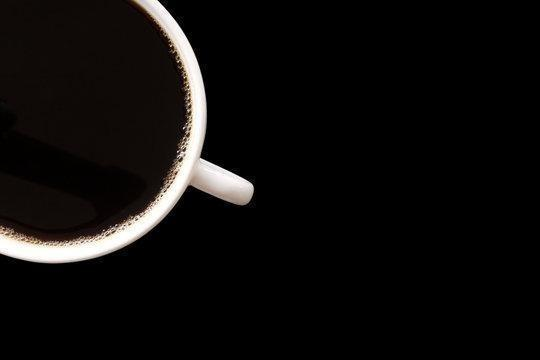cup-handle: (0, 0, 254, 270)
